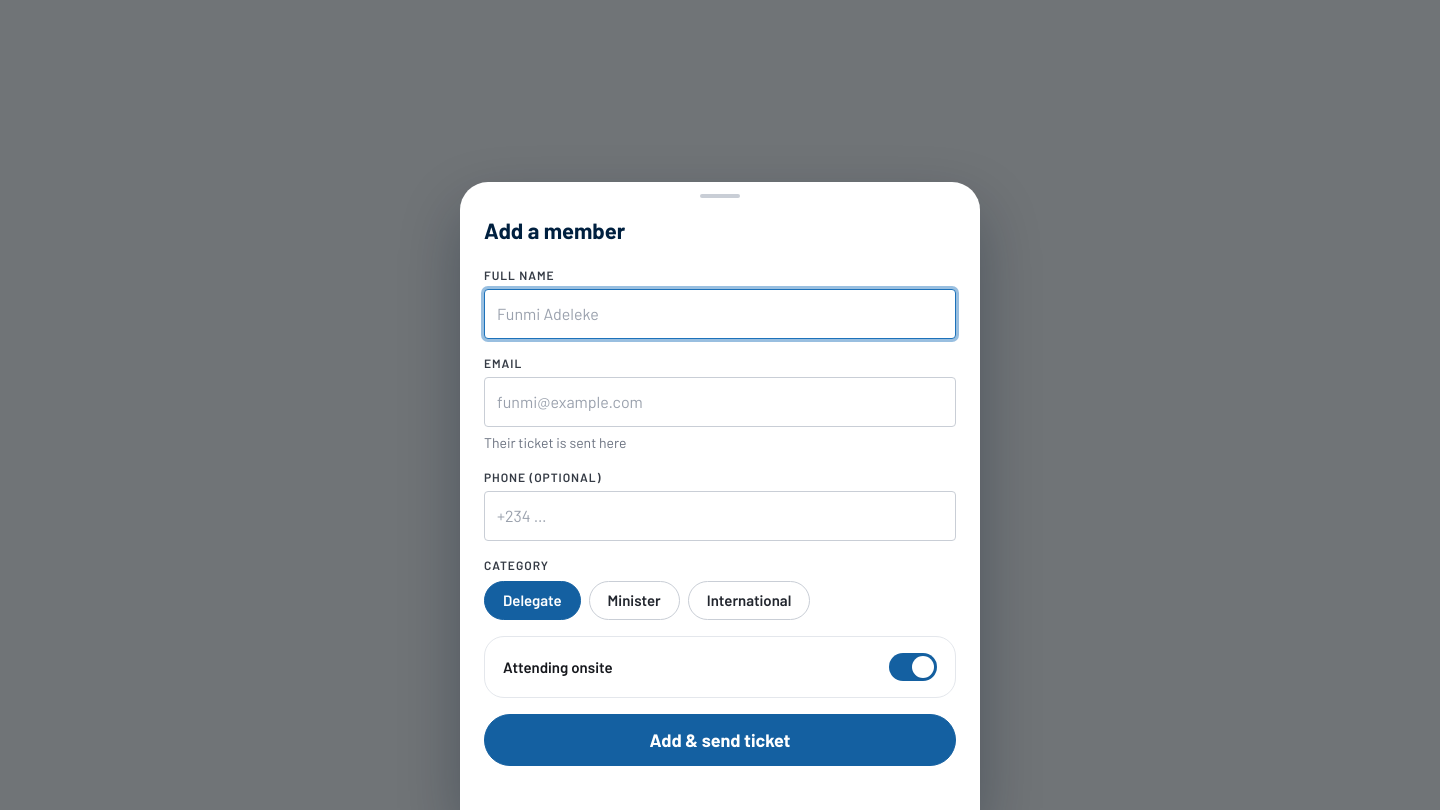
Test case: MemberSheet › validates before sending
The image size is (1440, 810).
Step 1. Click the button "Add & send ticket" → (720, 740), box left=484, top=714, right=956, bottom=766
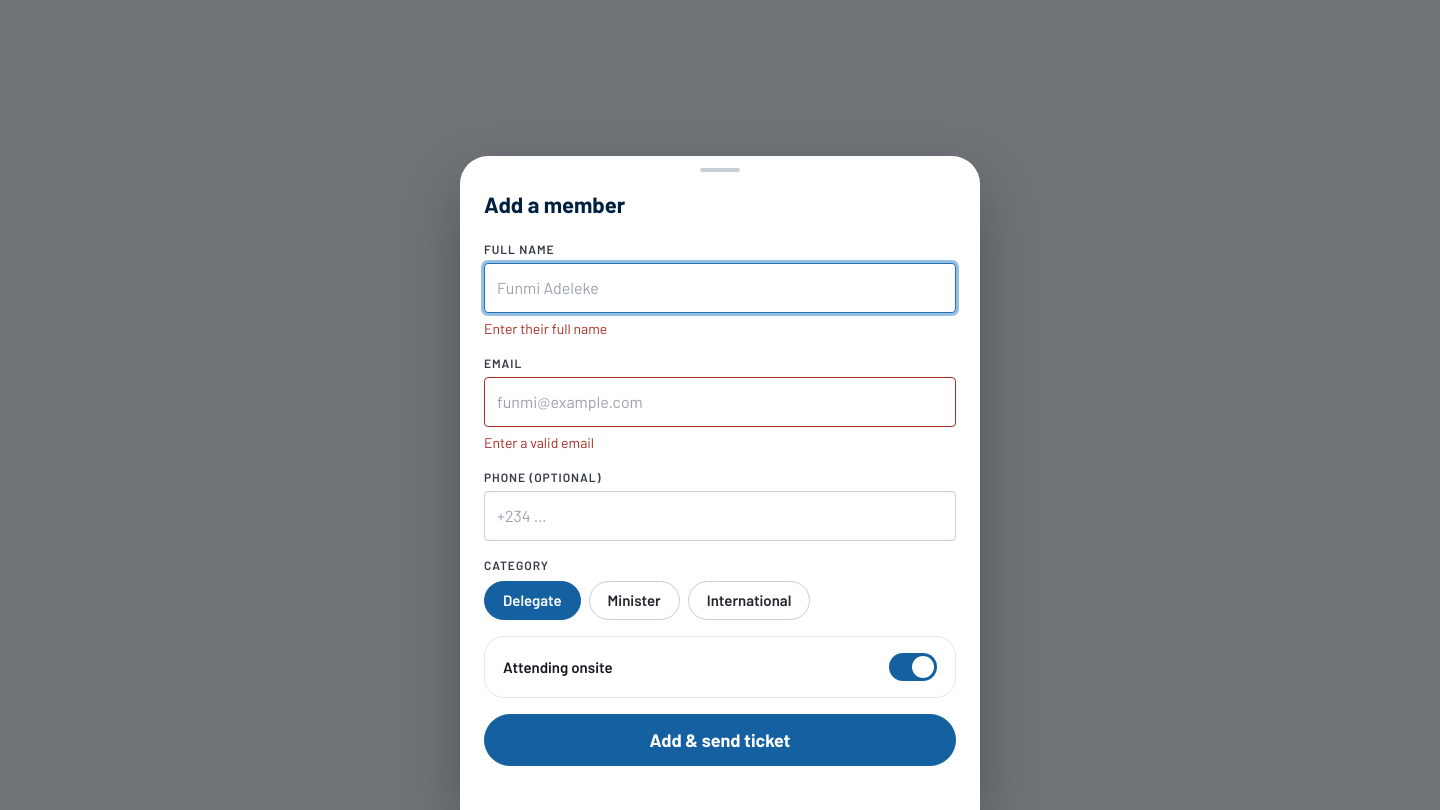
Check: the text "Enter their full name" is shown, box left=484, top=320, right=607, bottom=337
Check: the text "Enter a valid email" is shown, box left=484, top=434, right=594, bottom=451
